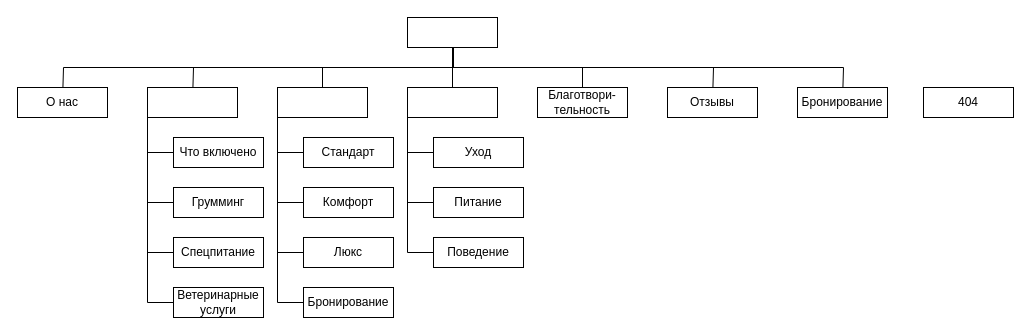
This 1031x335 diagram has some shape labels left out. The box of each missing label's shape, as (x1, y1, x2, y2) in pixels:
Главная: (406, 16, 498, 48)
Номера: (276, 86, 368, 118)
Статьи: (406, 86, 498, 118)
Услуги: (146, 86, 238, 118)
